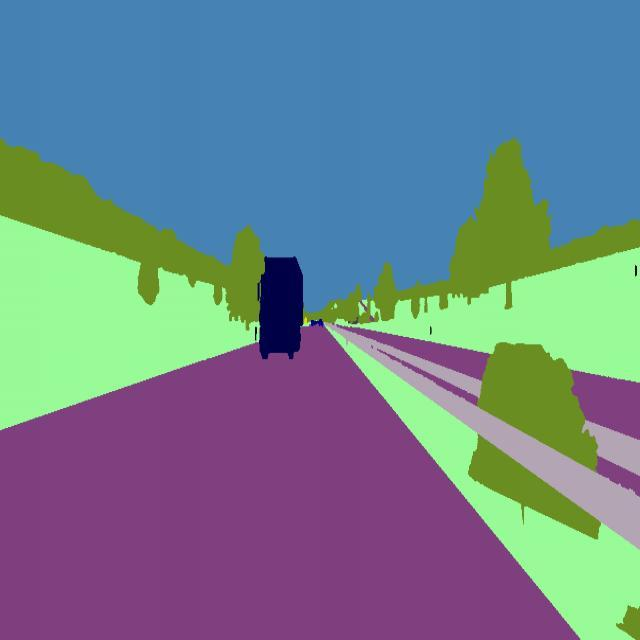safe: (256, 253, 307, 365), (318, 317, 326, 331), (310, 315, 316, 331)
